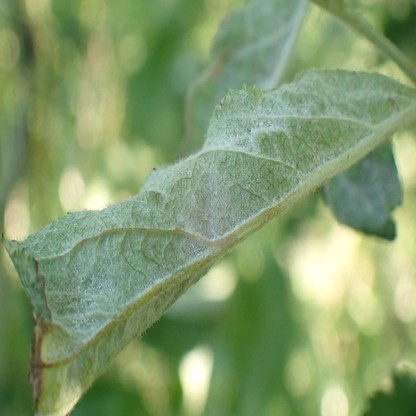powdery_mildew: (2, 67, 416, 415)
